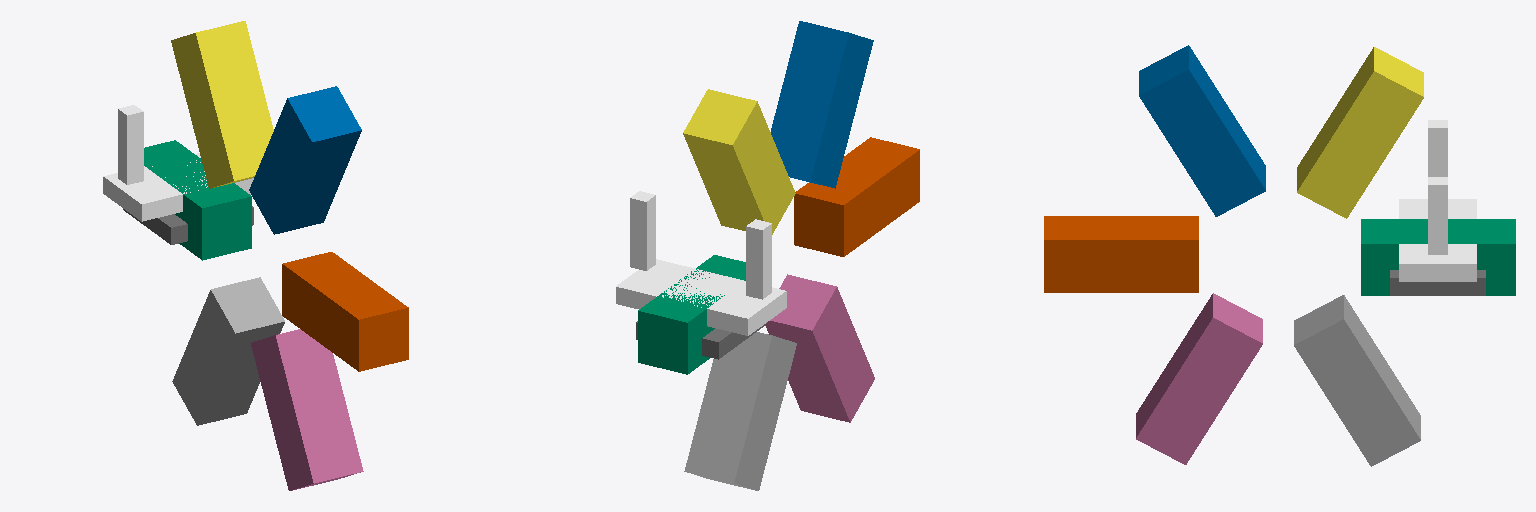
The robot description file, URDF, robot "my_robot_arm":
<?xml version="1.0" ?>
<!-- =================================================================================== -->
<!-- |    This document was autogenerated by xacro from Arm.xacro                      | -->
<!-- |    EDITING THIS FILE BY HAND IS NOT RECOMMENDED                                 | -->
<!-- =================================================================================== -->
<robot name="my_robot_arm" xmlns:xacro="http://ros.org/wiki/xacro">
  <!-- Dummy base (buffer) added as new root -->
  <link name="dummy_base">
    <visual>
      <origin rpy="0 0 0" xyz="0 0 0"/>
      <geometry>
        <box size="0.001 0.001 0.001"/>
      </geometry>
    </visual>
  </link>
  <joint name="dummy_base_to_base_link" type="fixed">
    <parent link="dummy_base"/>
    <child link="base_link"/>
    <origin rpy="0 0 0" xyz="0 0 0"/>
  </joint>
  <!-- Base link -->
  <link name="base_link">
    <visual>
      <origin rpy="0 0 0" xyz="0 0 0"/>
      <geometry>
        <box size="0.5 0.5 0.1"/>
      </geometry>
      <material name="grey">
        <color rgba="0.5 0.5 0.5 1.0"/>
      </material>
    </visual>
    <!-- Added inertial for base_link -->
    <inertial>
      <origin rpy="0 0 0" xyz="0 0 0"/>
      <mass value="1.0"/>
      <inertia ixx="0.01" ixy="0.0" ixz="0.0" iyy="0.01" iyz="0.0" izz="0.01"/>
    </inertial>
  </link>
  <!-- part1 -->
  <link name="part1">
    <visual>
      <origin rpy="0 0 0" xyz="0 0 0"/>
      <geometry>
        <!--<mesh filename="niki_arm.stl" scale="0.01 0.01 0.01" />-->
        <box size="0.3 0.8 0.3"/>
      </geometry>
    </visual>
    <collision>
      <origin rpy="0 0 0" xyz="0 0 0"/>
      <geometry>
        <!--<mesh filename="niki_arm.stl" scale="0.01 0.01 0.01" />-->
        <box size="0.3 0.8 0.3"/>
      </geometry>
    </collision>
    <!-- Added inertial for part1 -->
    <inertial>
      <origin rpy="0 0 0" xyz="0 0 0"/>
      <mass value="1.0"/>
      <inertia ixx="0.01" ixy="0.0" ixz="0.0" iyy="0.01" iyz="0.0" izz="0.01"/>
    </inertial>
  </link>
  <joint name="joint1" type="revolute">
    <parent link="base_link"/>
    <child link="part1"/>
    <origin rpy="0 0 0" xyz="0 0 0.05"/>
    <axis xyz="0 0 1"/>
    <!-- Increased effort for stronger drive -->
    <limit effort="100" lower="-3.141592653589793" upper="3.141592653589793" velocity="1.0"/>
    <dynamics damping="2.0" friction="0.2"/>
  </joint>
  <!-- part2 -->
  <link name="part2">
    <visual>
      <origin rpy="0 0 0" xyz="0 0 0"/>
      <geometry>
        <!--<mesh filename="niki_arm.stl" scale="0.01 0.01 0.01" />-->
        <box size="0.3 0.8 0.3"/>
      </geometry>
    </visual>
    <collision>
      <origin rpy="0 0 0" xyz="0 0 0"/>
      <geometry>
        <!--<mesh filename="niki_arm.stl" scale="0.01 0.01 0.01" />-->
        <box size="0.3 0.8 0.3"/>
      </geometry>
    </collision>
    <!-- Added inertial for part2 -->
    <inertial>
      <origin rpy="0 0 0" xyz="0 0 0"/>
      <mass value="1.0"/>
      <inertia ixx="0.01" ixy="0.0" ixz="0.0" iyy="0.01" iyz="0.0" izz="0.01"/>
    </inertial>
  </link>
  <joint name="joint2" type="revolute">
    <parent link="part1"/>
    <child link="part2"/>
    <origin rpy="1.0471975511965976 0 0" xyz="0 -0.40000000000000013 0.7110254037844386"/>
    <axis xyz="0 0 1"/>
    <limit effort="100" lower="-3.141592653589793" upper="3.141592653589793" velocity="1.0"/>
    <dynamics damping="2.0" friction="0.2"/>
  </joint>
  <!-- part3 -->
  <link name="part3">
    <visual>
      <origin rpy="0 0 0" xyz="0 0 0"/>
      <geometry>
        <!--<mesh filename="niki_arm.stl" scale="0.01 0.01 0.01" />-->
        <box size="0.3 0.8 0.3"/>
      </geometry>
    </visual>
    <collision>
      <origin rpy="0 0 0" xyz="0 0 0"/>
      <geometry>
        <!--<mesh filename="niki_arm.stl" scale="0.01 0.01 0.01" />-->
        <box size="0.3 0.8 0.3"/>
      </geometry>
    </collision>
    <!-- Added inertial for part3 -->
    <inertial>
      <origin rpy="0 0 0" xyz="0 0 0"/>
      <mass value="1.0"/>
      <inertia ixx="0.01" ixy="0.0" ixz="0.0" iyy="0.01" iyz="0.0" izz="0.01"/>
    </inertial>
  </link>
  <joint name="joint3" type="revolute">
    <parent link="part2"/>
    <child link="part3"/>
    <origin rpy="1.0471975511965976 0 0" xyz="0 -0.40000000000000013 0.7110254037844386"/>
    <axis xyz="0 0 1"/>
    <limit effort="100" lower="-3.141592653589793" upper="3.141592653589793" velocity="1.0"/>
    <dynamics damping="2.0" friction="0.2"/>
  </joint>
  <!-- part4 -->
  <link name="part4">
    <visual>
      <origin rpy="0 0 0" xyz="0 0 0"/>
      <geometry>
        <!--<mesh filename="niki_arm.stl" scale="0.01 0.01 0.01" />-->
        <box size="0.3 0.8 0.3"/>
      </geometry>
    </visual>
    <collision>
      <origin rpy="0 0 0" xyz="0 0 0"/>
      <geometry>
        <!--<mesh filename="niki_arm.stl" scale="0.01 0.01 0.01" />-->
        <box size="0.3 0.8 0.3"/>
      </geometry>
    </collision>
    <!-- Added inertial for part4 -->
    <inertial>
      <origin rpy="0 0 0" xyz="0 0 0"/>
      <mass value="1.0"/>
      <inertia ixx="0.01" ixy="0.0" ixz="0.0" iyy="0.01" iyz="0.0" izz="0.01"/>
    </inertial>
  </link>
  <joint name="joint4" type="revolute">
    <parent link="part3"/>
    <child link="part4"/>
    <origin rpy="1.0471975511965976 0 0" xyz="0 -0.40000000000000013 0.7110254037844386"/>
    <axis xyz="0 0 1"/>
    <limit effort="100" lower="-3.141592653589793" upper="3.141592653589793" velocity="1.0"/>
    <dynamics damping="2.0" friction="0.2"/>
  </joint>
  <!-- part5 -->
  <link name="part5">
    <visual>
      <origin rpy="0 0 0" xyz="0 0 0"/>
      <geometry>
        <!--<mesh filename="niki_arm.stl" scale="0.01 0.01 0.01" />-->
        <box size="0.3 0.8 0.3"/>
      </geometry>
    </visual>
    <collision>
      <origin rpy="0 0 0" xyz="0 0 0"/>
      <geometry>
        <!--<mesh filename="niki_arm.stl" scale="0.01 0.01 0.01" />-->
        <box size="0.3 0.8 0.3"/>
      </geometry>
    </collision>
    <!-- Added inertial for part5 -->
    <inertial>
      <origin rpy="0 0 0" xyz="0 0 0"/>
      <mass value="1.0"/>
      <inertia ixx="0.01" ixy="0.0" ixz="0.0" iyy="0.01" iyz="0.0" izz="0.01"/>
    </inertial>
  </link>
  <joint name="joint5" type="revolute">
    <parent link="part4"/>
    <child link="part5"/>
    <origin rpy="1.0471975511965976 0 0" xyz="0 -0.40000000000000013 0.7110254037844386"/>
    <axis xyz="0 0 1"/>
    <limit effort="100" lower="-3.141592653589793" upper="3.141592653589793" velocity="1.0"/>
    <dynamics damping="2.0" friction="0.2"/>
  </joint>
  <!-- part6 -->
  <link name="part6">
    <visual>
      <origin rpy="0 0 0" xyz="0 0 0"/>
      <geometry>
        <!--<mesh filename="niki_arm.stl" scale="0.01 0.01 0.01" />-->
        <box size="0.3 0.8 0.3"/>
      </geometry>
    </visual>
    <collision>
      <origin rpy="0 0 0" xyz="0 0 0"/>
      <geometry>
        <!--<mesh filename="niki_arm.stl" scale="0.01 0.01 0.01" />-->
        <box size="0.3 0.8 0.3"/>
      </geometry>
    </collision>
    <!-- Added inertial for part6 -->
    <inertial>
      <origin rpy="0 0 0" xyz="0 0 0"/>
      <mass value="1.0"/>
      <inertia ixx="0.01" ixy="0.0" ixz="0.0" iyy="0.01" iyz="0.0" izz="0.01"/>
    </inertial>
  </link>
  <joint name="joint6" type="revolute">
    <parent link="part5"/>
    <child link="part6"/>
    <origin rpy="1.0471975511965976 0 0" xyz="0 -0.40000000000000013 0.7110254037844386"/>
    <axis xyz="0 0 1"/>
    <limit effort="100" lower="-3.141592653589793" upper="3.141592653589793" velocity="1.0"/>
    <dynamics damping="2.0" friction="0.2"/>
  </joint>
  <!-- Gripper Buffer to decouple gripper_base from part6 -->
  <link name="gripper_buffer">
    <visual>
      <origin rpy="0 0 0" xyz="0 0 0"/>
      <geometry>
        <box size="0.001 0.001 0.001"/>
      </geometry>
    </visual>
  </link>
  <joint name="part6_to_gripper_buffer" type="fixed">
    <parent link="part6"/>
    <child link="gripper_buffer"/>
    <origin rpy="0 0 0" xyz="0 0 0"/>
  </joint>
  <!-- Gripper base (now attached via gripper_buffer) -->
  <link name="gripper_base">
    <visual>
      <origin rpy="0 0 0" xyz="0 -0.1 0"/>
      <geometry>
        <box size="0.8 0.1 0.4"/>
      </geometry>
      <material name="white">
        <color rgba="1 1 1 1"/>
      </material>
    </visual>
    <collision>
      <origin rpy="0 0 0" xyz="0 -0.1 0"/>
      <geometry>
        <box size="0.8 0.1 0.4"/>
      </geometry>
    </collision>
    <!-- Added inertial for gripper_base -->
    <inertial>
      <origin rpy="0 0 0" xyz="0 0 0"/>
      <mass value="0.5"/>
      <inertia ixx="0.005" ixy="0.0" ixz="0.0" iyy="0.005" iyz="0.0" izz="0.005"/>
    </inertial>
  </link>
  <joint name="gripper_buffer_to_gripper_base" type="fixed">
    <parent link="gripper_buffer"/>
    <child link="gripper_base"/>
    <origin rpy="-0.5235987755982988 0 0" xyz="0 -0.40000000000000013 0.7110254037844386"/>
  </joint>
  <!-- Left fingertip -->
  <link name="left_fingertip">
    <visual>
      <origin rpy="0 0 0" xyz="0 0 0"/>
      <geometry>
        <box size="0.1 0.4 0.1"/>
      </geometry>
      <material name="white">
        <color rgba="1 1 1 1"/>
      </material>
    </visual>
    <collision>
      <origin rpy="0 0 0" xyz="0 0 0"/>
      <geometry>
        <box size="0.1 0.4 0.1"/>
      </geometry>
    </collision>
    <!-- Added inertial for left_fingertip -->
    <inertial>
      <origin rpy="0 0 0" xyz="0 0 0"/>
      <mass value="0.2"/>
      <inertia ixx="0.002" ixy="0.0" ixz="0.0" iyy="0.002" iyz="0.0" izz="0.002"/>
    </inertial>
  </link>
  <joint name="base_to_left_fingertip" type="prismatic">
    <origin xyz="-0.35 -0.4 0.0"/>
    <parent link="gripper_base"/>
    <child link="left_fingertip"/>
    <axis xyz="1 0 0"/>
    <limit effort="5.0" lower="0" upper="0.3" velocity="0.5"/>
    <dynamics damping="1.0" friction="0.1"/>
  </joint>
  <!-- Right fingertip -->
  <link name="right_fingertip">
    <visual>
      <origin rpy="0 0 0" xyz="0 0 0"/>
      <geometry>
        <box size="0.1 0.4 0.1"/>
      </geometry>
      <material name="white">
        <color rgba="1 1 1 1"/>
      </material>
    </visual>
    <collision>
      <origin rpy="0 0 0" xyz="0 0 0"/>
      <geometry>
        <box size="0.1 0.4 0.1"/>
      </geometry>
    </collision>
    <!-- Added inertial for right_fingertip -->
    <inertial>
      <origin rpy="0 0 0" xyz="0 0 0"/>
      <mass value="0.2"/>
      <inertia ixx="0.002" ixy="0.0" ixz="0.0" iyy="0.002" iyz="0.0" izz="0.002"/>
    </inertial>
  </link>
  <joint name="base_to_right_fingertip" type="prismatic">
    <origin xyz="0.35 -0.4 0.0"/>
    <parent link="gripper_base"/>
    <child link="right_fingertip"/>
    <axis xyz="1 0 0"/>
    <limit effort="5.0" lower="-0.3" upper="0.0" velocity="0.5"/>
    <dynamics damping="1.0" friction="0.1"/>
  </joint>
</robot>

--- What the picture shows (computed from the rendered views, not written in the file) ---
Views: 3 orthographic renders of the robot side by side, from view 1: azimuth 30°, elevation 25°; view 2: azimuth 150°, elevation 25°; view 3: azimuth 270°, elevation 25°.
Model my_robot_arm with 12 links and 11 joints (6 revolute, 2 prismatic, 3 fixed), rooted at dummy_base, posed every joint at zero.
Links seen in each view (by area): view 1: part5, part2, part3, part4, part6, part1, gripper_base, left_fingertip, base_link; view 2: part3, part6, part2, part4, part5, gripper_base, part1, left_fingertip, right_fingertip, base_link; view 3: part4, part3, part6, part2, part5, part1, gripper_base, base_link, right_fingertip, left_fingertip.
Link boxes in pixels (x1=…): part5: x1=251, y1=329, x2=363, y2=490; part2: x1=171, y1=21, x2=273, y2=188; part3: x1=249, y1=86, x2=361, y2=234; part4: x1=282, y1=252, x2=408, y2=371; part6: x1=172, y1=277, x2=284, y2=425; part1: x1=144, y1=140, x2=251, y2=260; gripper_base: x1=103, y1=153, x2=253, y2=221; left_fingertip: x1=118, y1=105, x2=143, y2=184; base_link: x1=123, y1=206, x2=253, y2=244; part3: x1=771, y1=21, x2=873, y2=188; part6: x1=684, y1=332, x2=796, y2=490; part2: x1=683, y1=89, x2=795, y2=234; part4: x1=794, y1=137, x2=919, y2=256; part5: x1=765, y1=274, x2=874, y2=422; gripper_base: x1=616, y1=259, x2=786, y2=335; part1: x1=638, y1=255, x2=745, y2=374; left_fingertip: x1=746, y1=219, x2=771, y2=299; right_fingertip: x1=630, y1=191, x2=655, y2=270; base_link: x1=636, y1=321, x2=765, y2=359; part4: x1=1044, y1=216, x2=1198, y2=292; part3: x1=1139, y1=45, x2=1265, y2=216; part6: x1=1294, y1=295, x2=1420, y2=466; part2: x1=1297, y1=47, x2=1423, y2=218; part5: x1=1136, y1=293, x2=1262, y2=464; part1: x1=1361, y1=219, x2=1515, y2=295; gripper_base: x1=1399, y1=199, x2=1476, y2=281; base_link: x1=1390, y1=270, x2=1485, y2=295; right_fingertip: x1=1428, y1=177, x2=1447, y2=254; left_fingertip: x1=1428, y1=120, x2=1447, y2=176.
Size in the robot's own frame: 0.8 by 2.43 by 2.26 metres.
Geometry: primitives only (box / cylinder / sphere), no mesh files.
